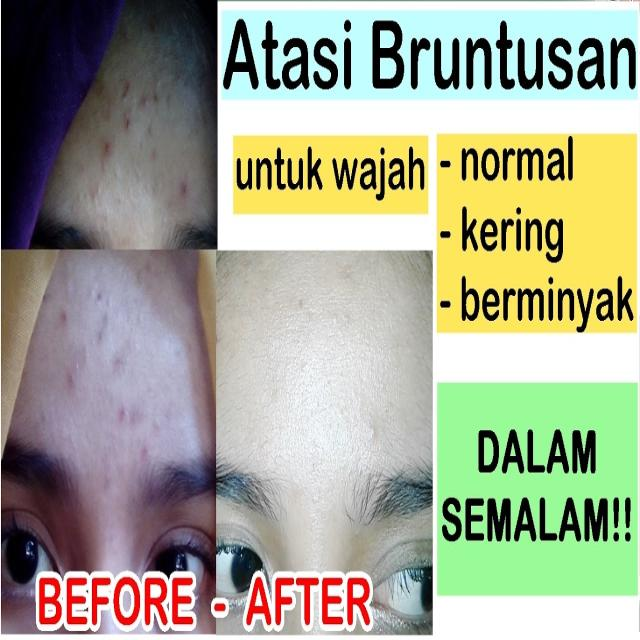Acne: (40, 256, 193, 493), (80, 1, 218, 215)
